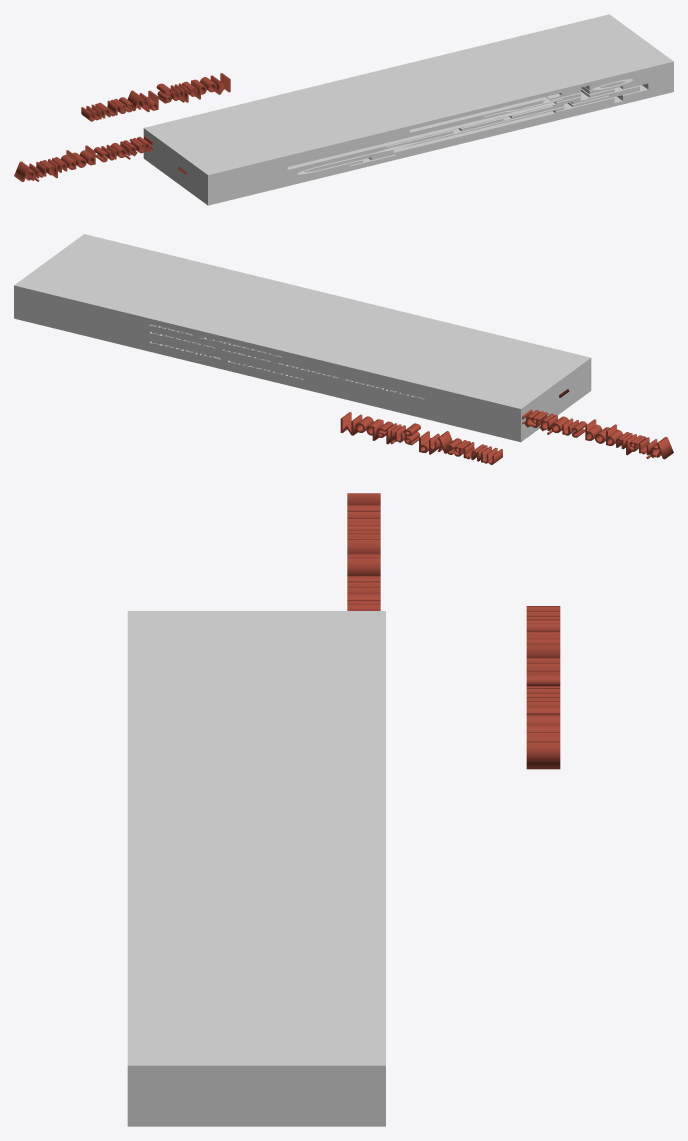
The model's file is water_maze.gltf.
3 views of the same model, one above another, from view 1: azimuth 30°, elevation 25°; view 2: azimuth 150°, elevation 25°; view 3: azimuth 270°, elevation 25° (orthographic). The views are drawn at different scales.
Visible parts, largest first — view 1: Cube.001, Text, Text.001; view 2: Cube.001, Text, Text.001; view 3: Cube.001, Text, Text.001.
Boxes of the visible parts, x1,y1,x2,y2 form: Cube.001: (143, 14, 673, 205); Text: (81, 73, 230, 121); Text.001: (14, 136, 153, 181); Cube.001: (14, 234, 591, 442); Text: (340, 412, 502, 464); Text.001: (522, 409, 673, 459); Cube.001: (127, 611, 385, 1126); Text: (526, 606, 560, 769); Text.001: (347, 493, 380, 610).
Bounding box in the file's own units: 142 × 6.94 × 44.62.
